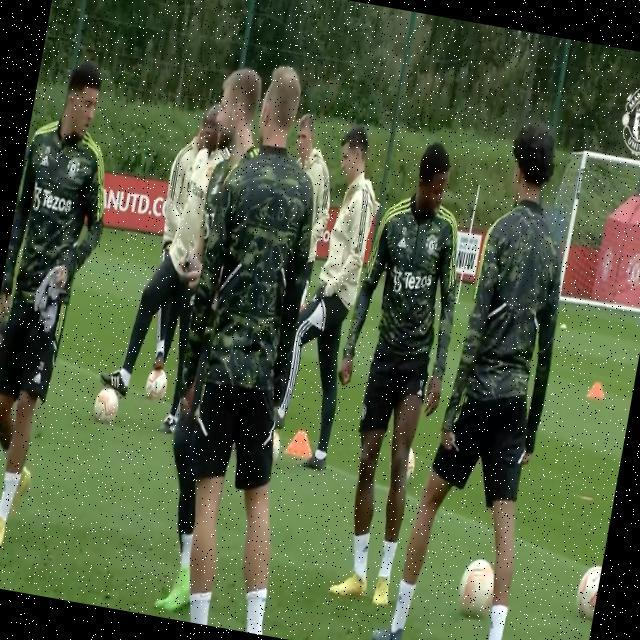Adidas: (397, 232, 410, 252), (38, 151, 51, 169)
